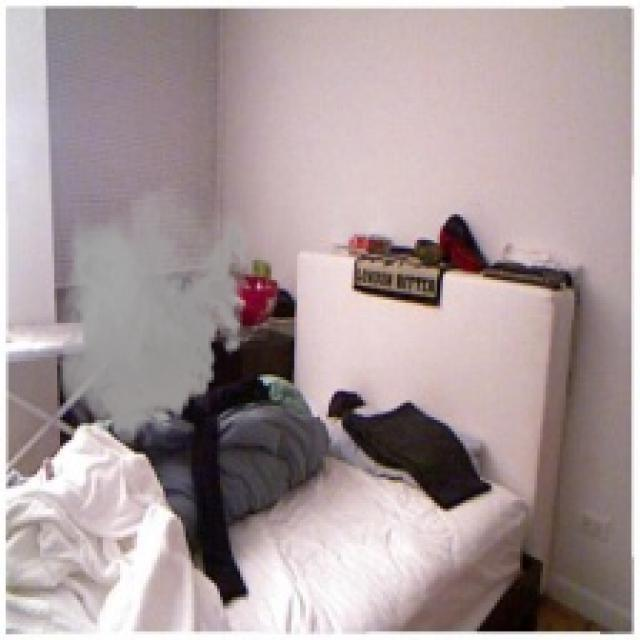Smoke: (52, 174, 255, 454)
